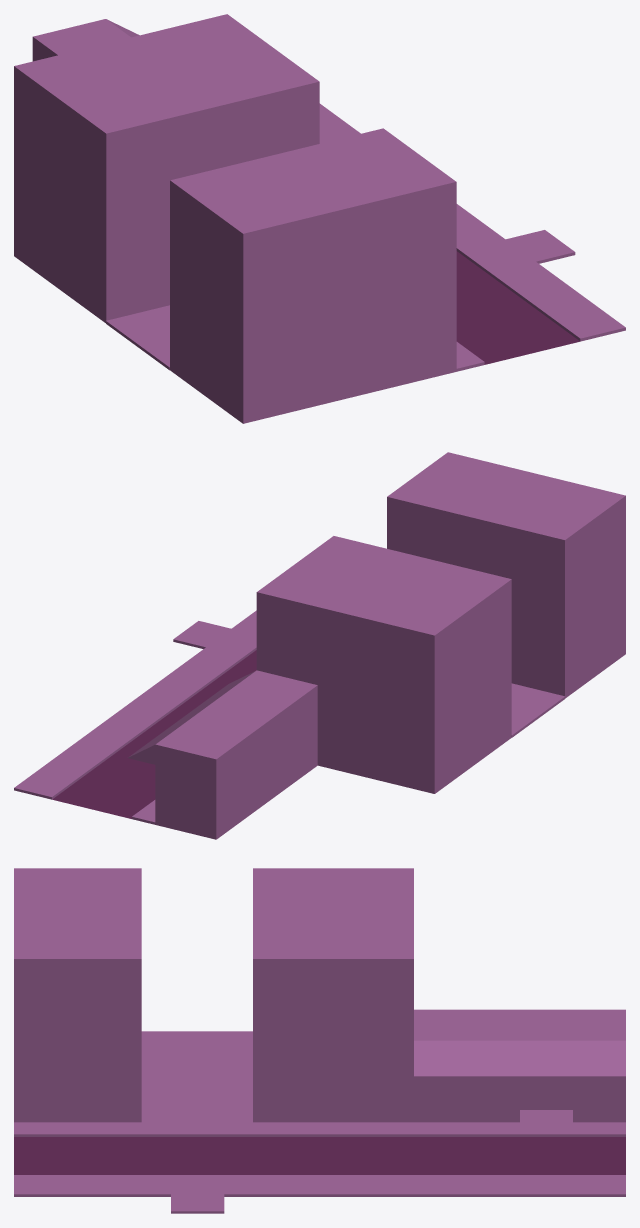
File: Backstreetblockout1.glb
3 views of the same model, one above another, from view 1: azimuth 30°, elevation 25°; view 2: azimuth 150°, elevation 25°; view 3: azimuth 270°, elevation 25° (orthographic). The views are drawn at different scales.
Parts seen in each view (by area): view 1: Plane.col; view 2: Plane.col; view 3: Plane.col.
Part boxes in pixels (box(x1,y1,x2,y2)): Plane.col: box(14, 14, 625, 423); Plane.col: box(14, 452, 625, 839); Plane.col: box(14, 868, 625, 1213).
Size of the model in its own units: 36.14 by 15.54 by 51.95.
